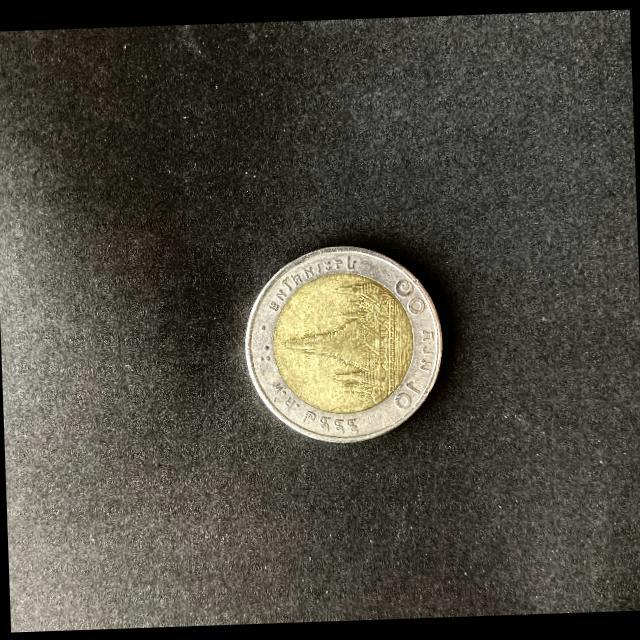10 Bath: (244, 242, 446, 447)
